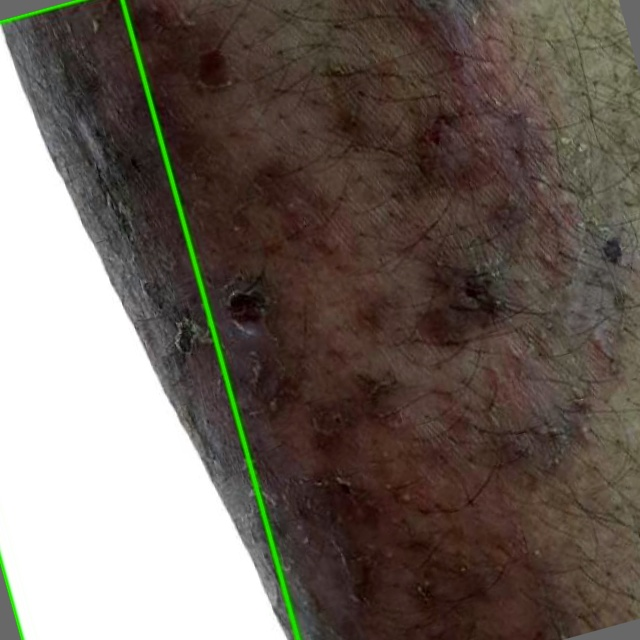Tinea Corporis: (0, 0, 298, 639)
